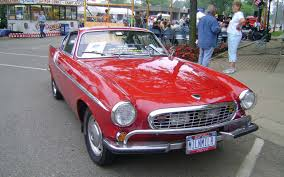car: (36, 21, 267, 168)
